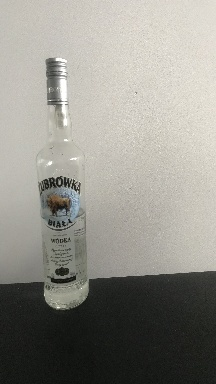butelka: (34, 53, 90, 312)
